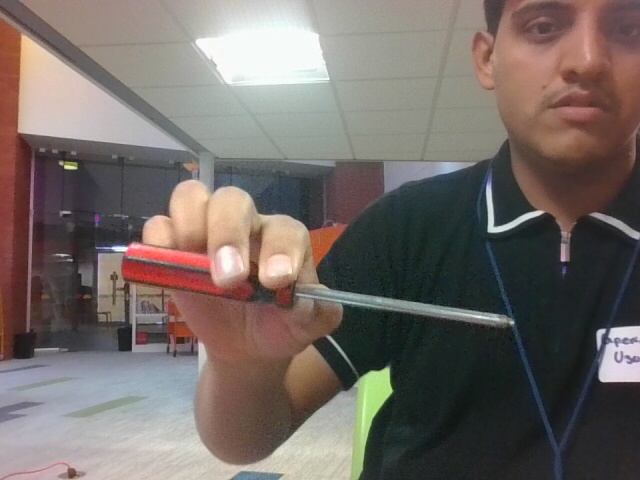destornillador: (123, 242, 507, 321)
